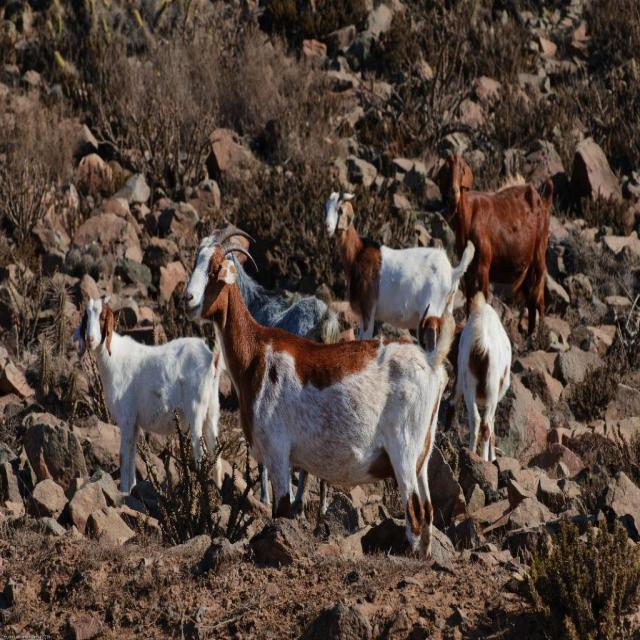Goat: (74, 154, 554, 560)
